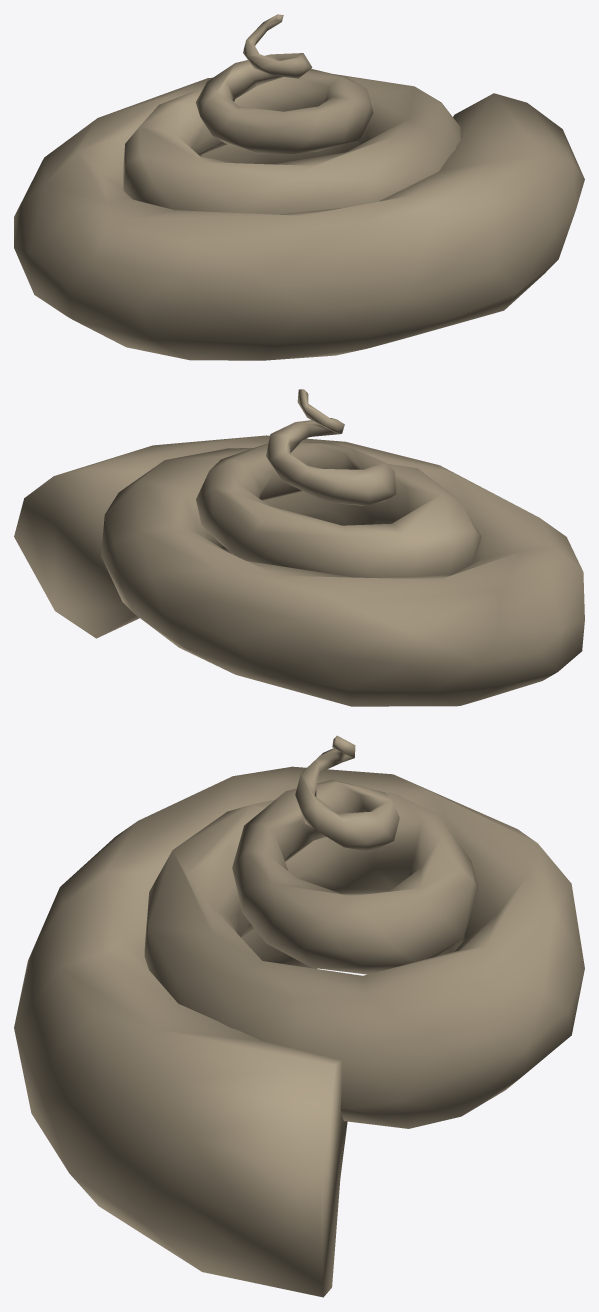
File: shell-mobile.glb
3 views of the same model, one above another, from view 1: azimuth 30°, elevation 25°; view 2: azimuth 150°, elevation 25°; view 3: azimuth 270°, elevation 25° (orthographic). The views are drawn at different scales.
Visible parts, largest first — view 1: shell; view 2: shell; view 3: shell.
Part boxes in pixels (box(x1,y1,x2,y2)): shell: box(14, 14, 584, 360); shell: box(14, 389, 584, 706); shell: box(14, 735, 584, 1297).
Bounding box in the file's own units: 0.4596 × 0.2402 × 0.3014.
